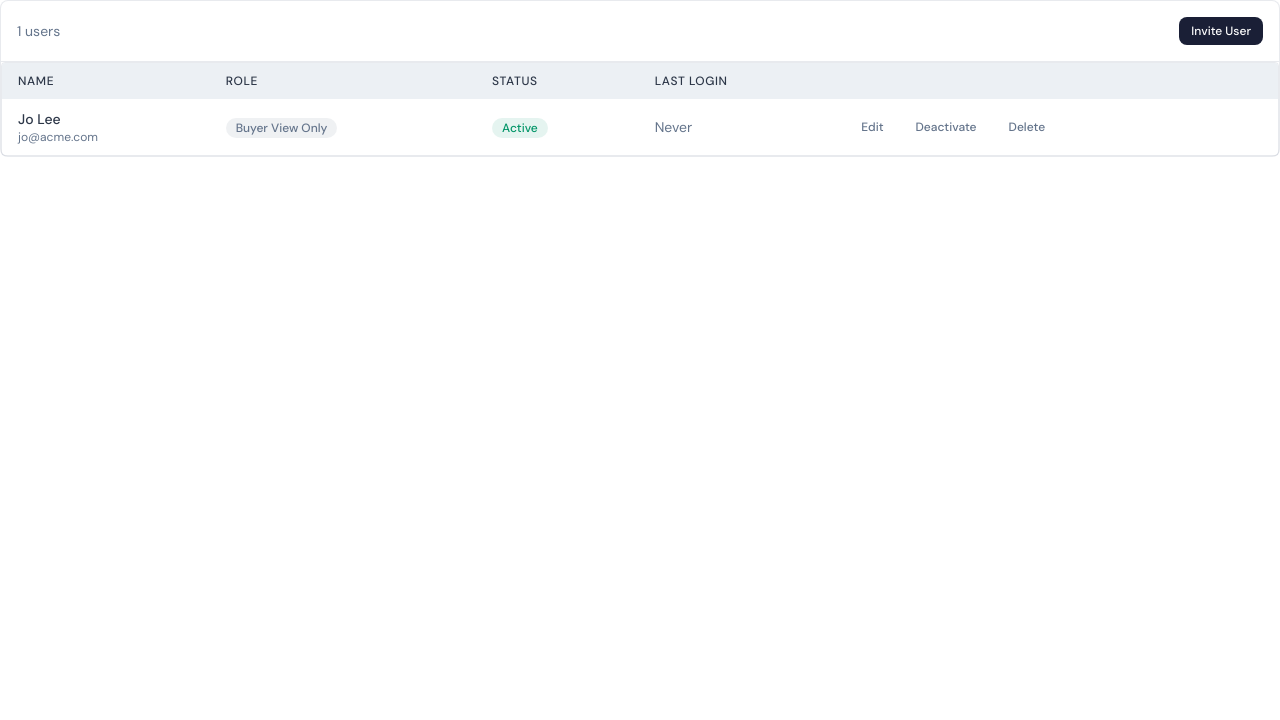
Test: UsersTable — mutations surface failures (no fire-and-forget) › edit-role: surfaces the error and shows no success toast when the PATCH fails
The width and height of the screenshot is (1280, 720).
Expected: the text "Jo Lee" is shown, [18,110,61,128]
Click the button "Edit" at (872, 127), box [849,113,896,141]
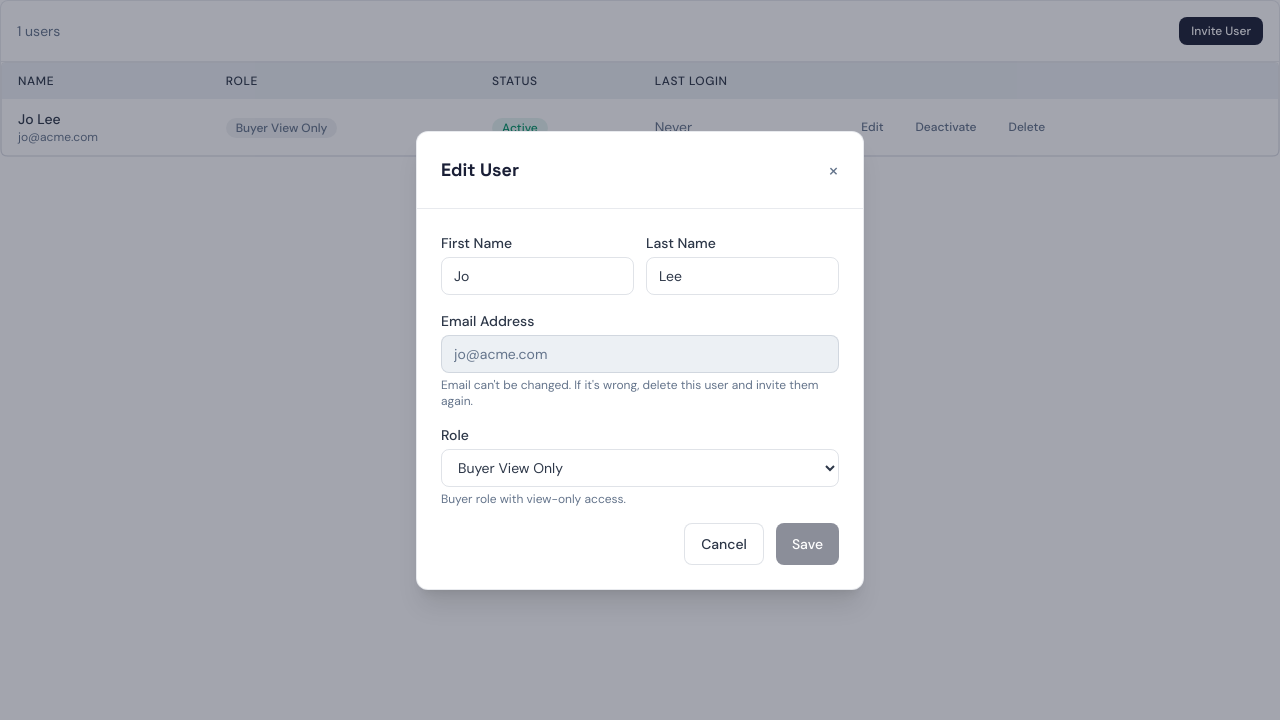
Select "Procurement Transact" in the dropdown labelled "Role" at (640, 468), box [441,448,839,486]
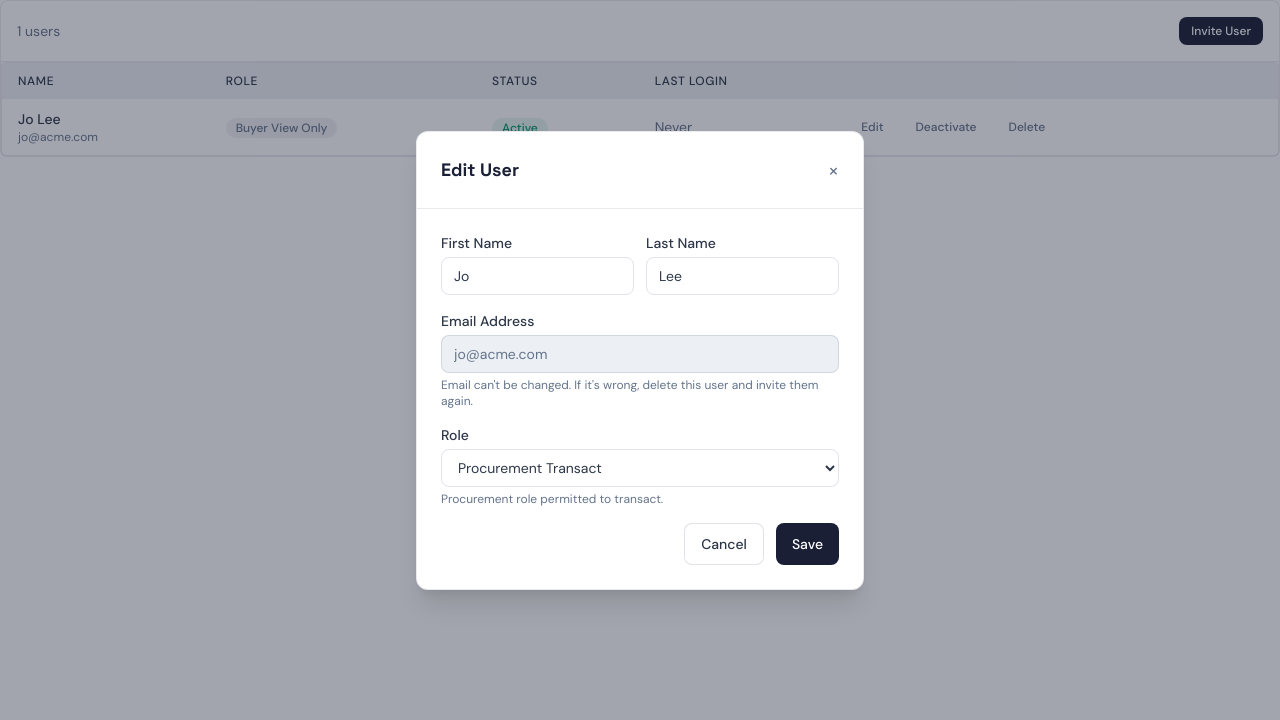
Click the button "Save" at (807, 544), box [776,522,839,564]
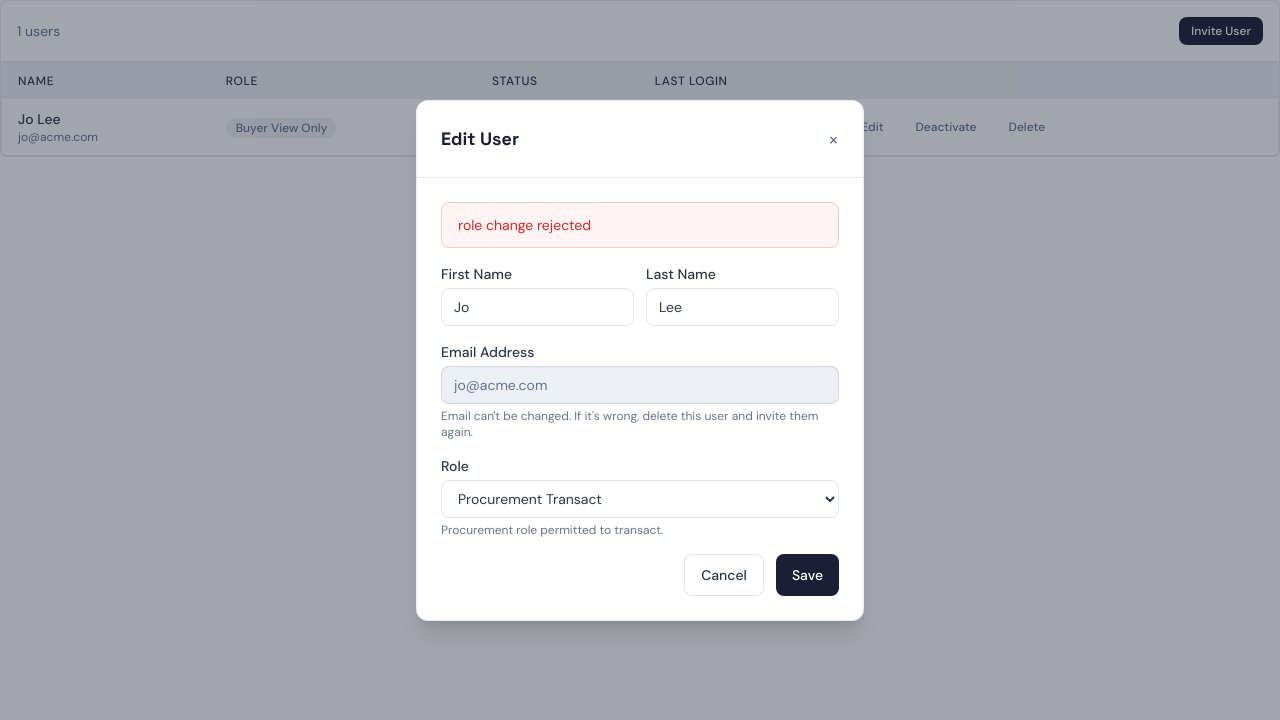
Result: the text "role change rejected" is shown at [441,202,839,248]
